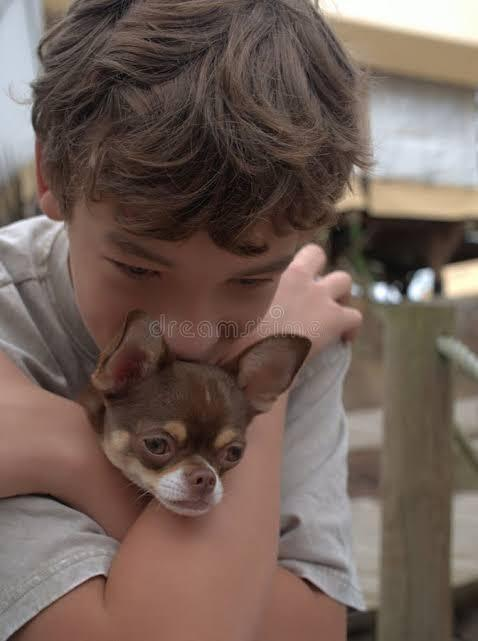adult_dog: (79, 308, 310, 519)
non-dog: (0, 1, 380, 641)
